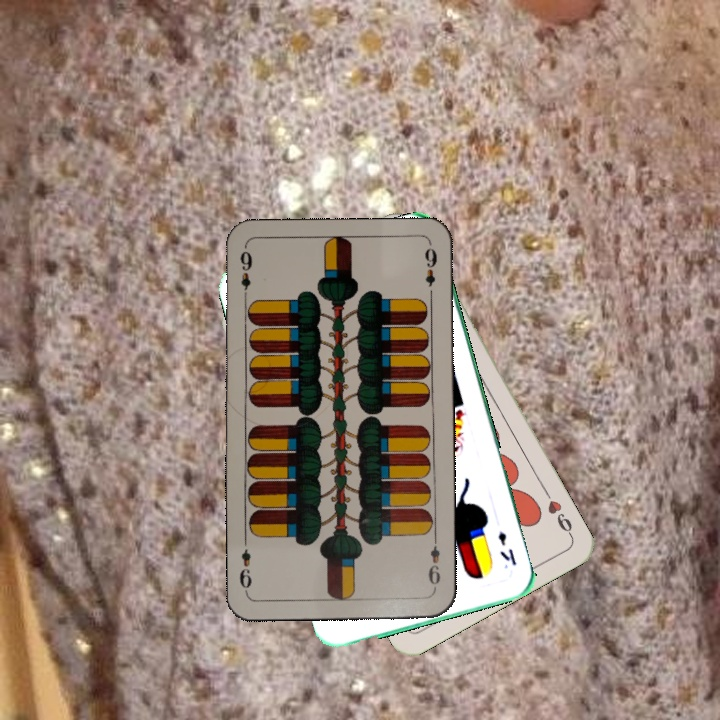E9: (424, 533, 443, 592), (236, 247, 255, 304)
EK: (494, 527, 519, 568)
H9: (540, 486, 576, 540)
